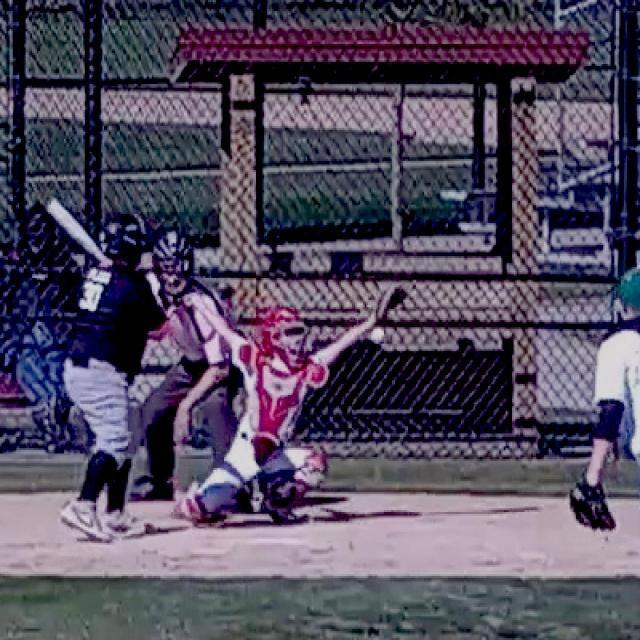ball: (370, 326, 388, 346)
bat: (46, 199, 110, 265)
